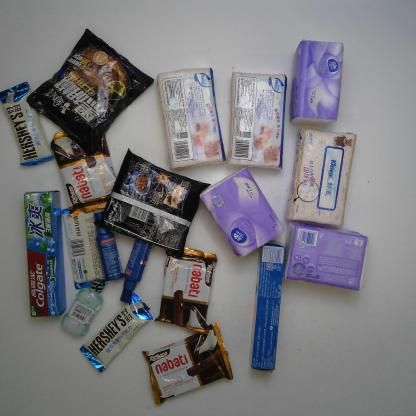Chocolate: (78, 292, 154, 374), (0, 81, 55, 166), (61, 207, 108, 290)
Dessert: (141, 321, 233, 406), (50, 128, 117, 217), (154, 246, 218, 335)
Instant Noodles: (26, 27, 156, 158), (92, 145, 211, 260)
Personal Hygiene: (24, 188, 66, 317), (249, 238, 287, 372), (61, 276, 107, 338), (119, 238, 153, 304), (94, 210, 124, 282)
Tissue: (199, 167, 286, 258), (156, 67, 227, 171), (288, 127, 358, 228), (282, 219, 368, 292), (226, 71, 288, 170), (288, 40, 344, 126)
